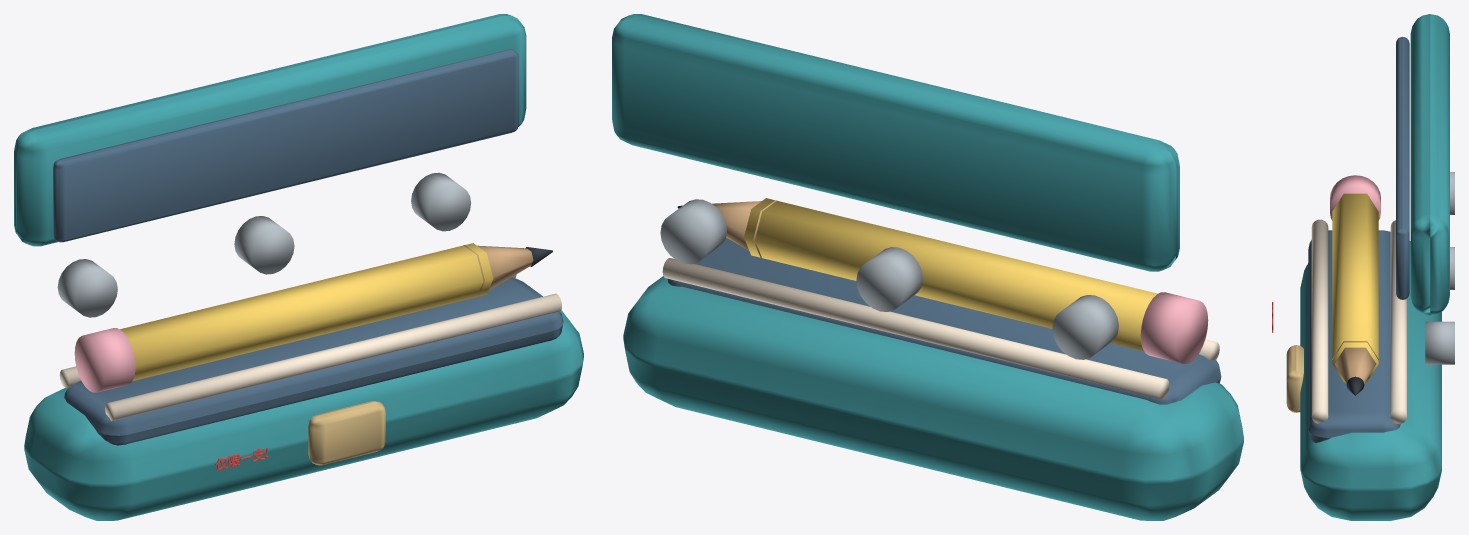
File: S02_One_Pencil_Tiny_Stationery_Case.glb
3 views of the same model, side by side, from view 1: azimuth 30°, elevation 25°; view 2: azimuth 150°, elevation 25°; view 3: azimuth 270°, elevation 25° (orthographic). The views are drawn at different scales.
Visible parts, largest first — view 1: S02 genuine navy blue lid underside liner, S02 little school mini stationery case bottom, S02 actual independent folded metal pencil case opening lid, S02 real soft felt U-shaped pencil single-channel tray, S02 one ONLY wooden pencil yellow lacquer full cylinder, S02_CASE_BODY_ACTOR | Case etched label original off white, S02_LID_ACTOR | Actual steel long heavy duty pencil case hin, S02 gold one-pencil release magnetic latch, S02 pink actual eraser end cap at back, S02 exposed sharpened cedar pencil tip; view 2: S02 actual independent folded metal pencil case opening lid, S02 little school mini stationery case bottom, S02 one ONLY wooden pencil yellow lacquer full cylinder, S02 real soft felt U-shaped pencil single-channel tray, S02_CASE_BODY_ACTOR | Case etched label original off white, S02_LID_ACTOR | Actual steel long heavy duty pencil case hin, S02 pink actual eraser end cap at back, S02 exposed sharpened cedar pencil tip; view 3: S02 little school mini stationery case bottom, S02 actual independent folded metal pencil case opening lid, S02 one ONLY wooden pencil yellow lacquer full cylinder, S02 real soft felt U-shaped pencil single-channel tray, S02_CASE_BODY_ACTOR | Case etched label original off white, S02 genuine navy blue lid underside liner, S02_LID_ACTOR | Actual steel long heavy duty pencil case hin, S02 exposed sharpened cedar pencil tip, S02 gold one-pencil release magnetic latch, S02 pink actual eraser end cap at back, S02 actual graphite writing needle.
Part boxes in pixels (x1,y1,x2,y2): S02 genuine navy blue lid underside liner: (53, 49, 518, 242); S02 little school mini stationery case bottom: (24, 310, 583, 520); S02 actual independent folded metal pencil case opening lid: (14, 14, 526, 246); S02 real soft felt U-shaped pencil single-channel tray: (64, 277, 563, 445); S02 one ONLY wooden pencil yellow lacquer full cylinder: (120, 243, 493, 381); S02_CASE_BODY_ACTOR | Case etched label original off white: (59, 274, 561, 420); S02_LID_ACTOR | Actual steel long heavy duty pencil case hin: (57, 172, 471, 317); S02 gold one-pencil release magnetic latch: (308, 401, 385, 465); S02 pink actual eraser end cap at back: (74, 328, 135, 392); S02 exposed sharpened cedar pencil tip: (463, 245, 533, 297); S02 actual independent folded metal pencil case opening lid: (612, 14, 1179, 271); S02 little school mini stationery case bottom: (623, 276, 1243, 520); S02 one ONLY wooden pencil yellow lacquer full cylinder: (744, 198, 1157, 351); S02 real soft felt U-shaped pencil single-channel tray: (667, 238, 1221, 404); S02_CASE_BODY_ACTOR | Case etched label original off white: (662, 237, 1219, 399); S02_LID_ACTOR | Actual steel long heavy duty pencil case hin: (660, 199, 1118, 359); S02 pink actual eraser end cap at back: (1140, 292, 1208, 363); S02 exposed sharpened cedar pencil tip: (712, 200, 776, 258); S02 little school mini stationery case bottom: (1300, 241, 1441, 520); S02 actual independent folded metal pencil case opening lid: (1410, 14, 1449, 315); S02 one ONLY wooden pencil yellow lacquer full cylinder: (1332, 193, 1378, 382); S02 real soft felt U-shaped pencil single-channel tray: (1308, 230, 1400, 443); S02_CASE_BODY_ACTOR | Case etched label original off white: (1311, 219, 1406, 423); S02 genuine navy blue lid underside liner: (1396, 36, 1409, 299); S02_LID_ACTOR | Actual steel long heavy duty pencil case hin: (1425, 172, 1454, 364); S02 exposed sharpened cedar pencil tip: (1332, 341, 1378, 382); S02 gold one-pencil release magnetic latch: (1286, 345, 1303, 412); S02 pink actual eraser end cap at back: (1330, 175, 1380, 220); S02 actual graphite writing needle: (1346, 376, 1364, 395).
Size of the model in its own units: 1.33 by 0.875 by 0.4643.
